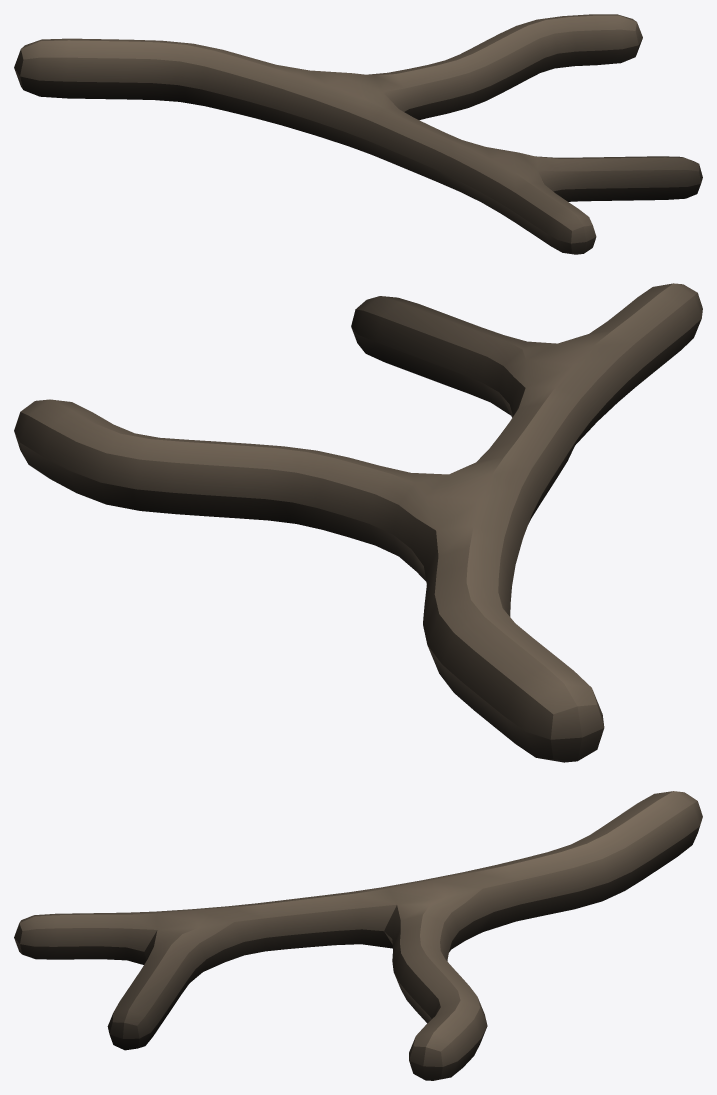
The model's file is branch3.fbx.
3 renders of one model, top to bottom at view 1: azimuth 30°, elevation 25°; view 2: azimuth 150°, elevation 25°; view 3: azimuth 270°, elevation 25°, orthographic. The views are drawn at different scales.
Parts seen in each view (by area): view 1: branch6; view 2: branch6; view 3: branch6.
Boxes of the visible parts, <box> form: branch6: <box>14,14,702,254</box>; branch6: <box>14,283,702,762</box>; branch6: <box>14,791,702,1080</box>.
Bounding box in the file's own units: 224 × 25.66 × 250.
